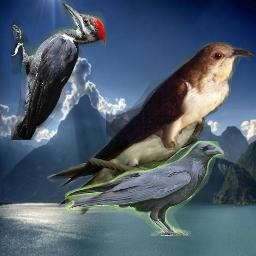Crow: (65, 141, 224, 236)
Cuckoo: (106, 42, 254, 150)
Swallow: (47, 73, 211, 215)
Woodpecker: (11, 1, 106, 140)
